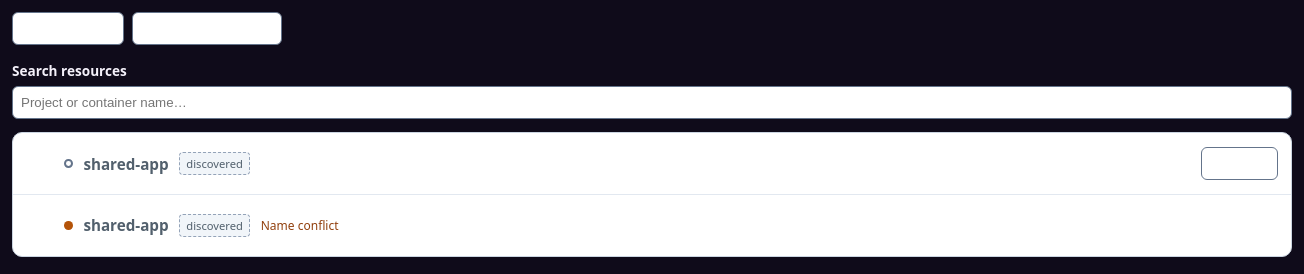
it: DiscoverySection › publishes the registration result without hiding a different tuple sharing its project name
Click the button with aria-label "Register shared-app". click: (1240, 164)
box: [1201,147,1278,180]
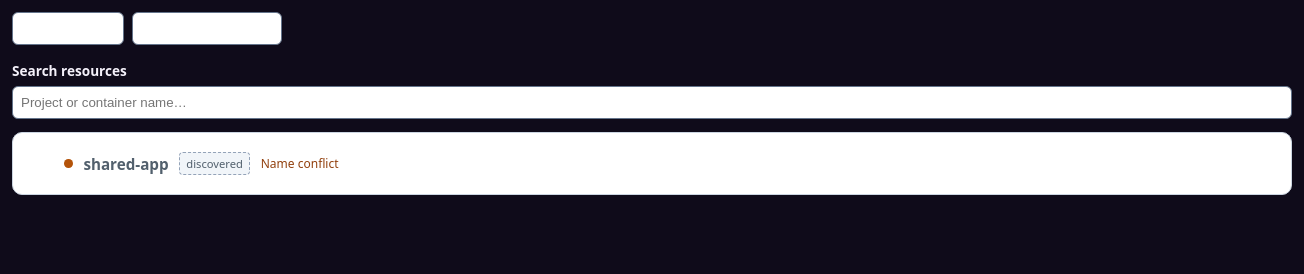
Expected: the text "Name conflict" is shown, [261,155,338,172]
Expected: the number of headings "shared-app" is 1, [83,154,169,174]
